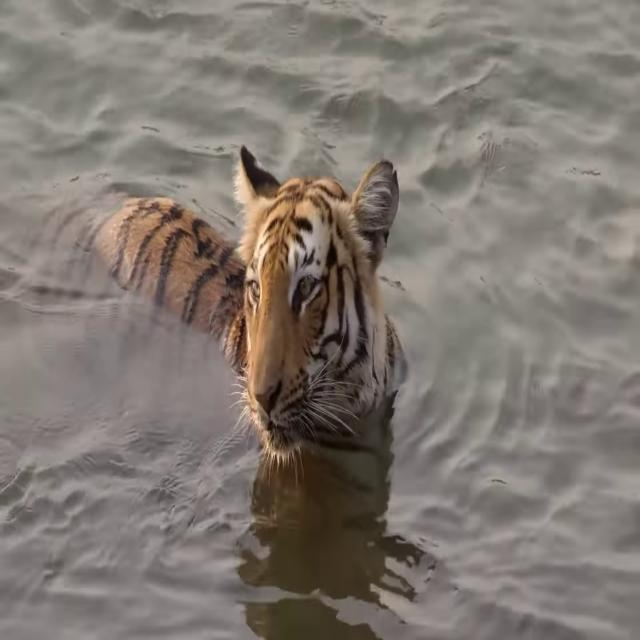tiger: (88, 141, 410, 475)
